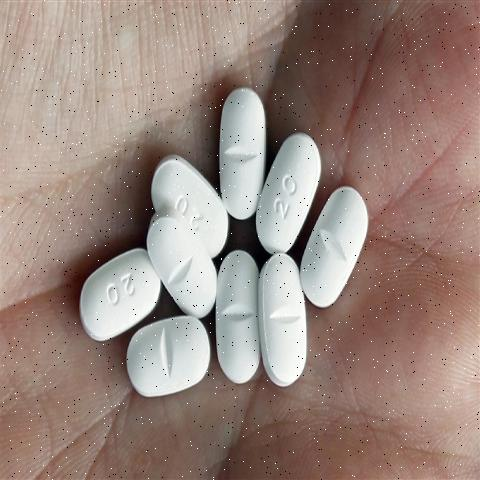hands: (300, 172, 383, 330), (66, 234, 164, 355), (125, 312, 214, 428), (151, 138, 230, 256), (140, 211, 220, 324), (210, 71, 268, 224), (212, 244, 265, 409), (257, 125, 320, 262), (258, 251, 313, 396)
